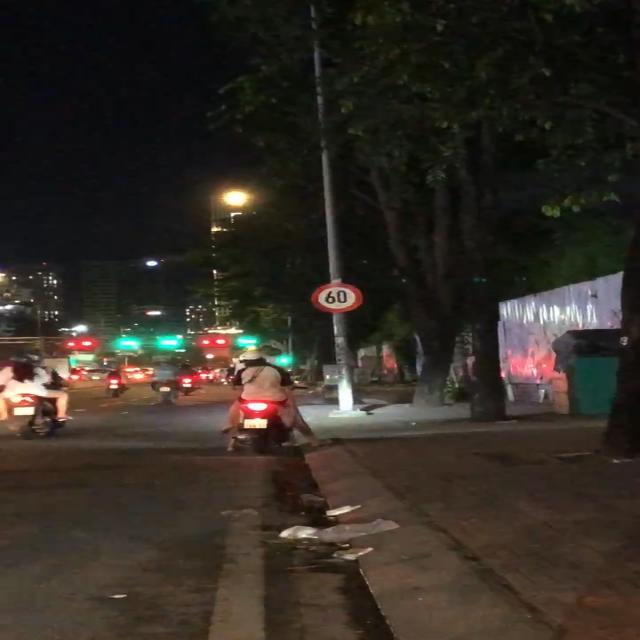Bien bao toc do toi da cho phep: (309, 280, 371, 316)
